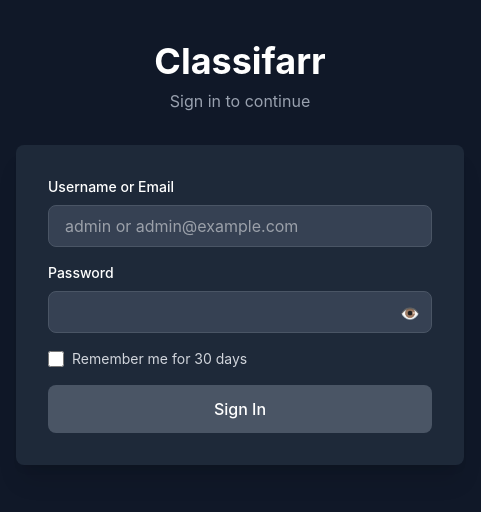
Scenario: Login.vue › login submission › shows error message on failed login
Type "admin" into the field with placeholder "admin or admin@example.com".
click(240, 226); type("admin")  # box [48,205,432,247]
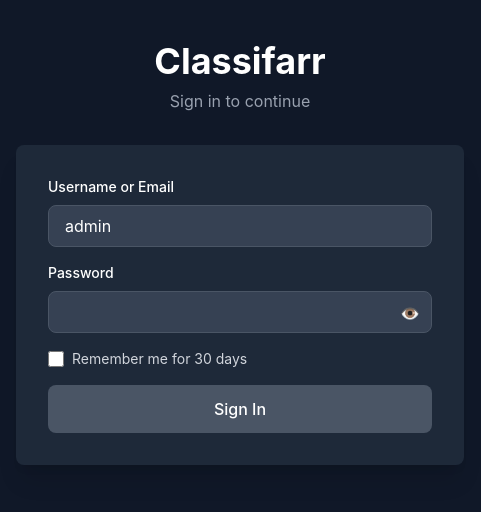
Type "wrongpass" into the password field.
click(240, 312); type("wrongpass")  # box [48,291,432,333]
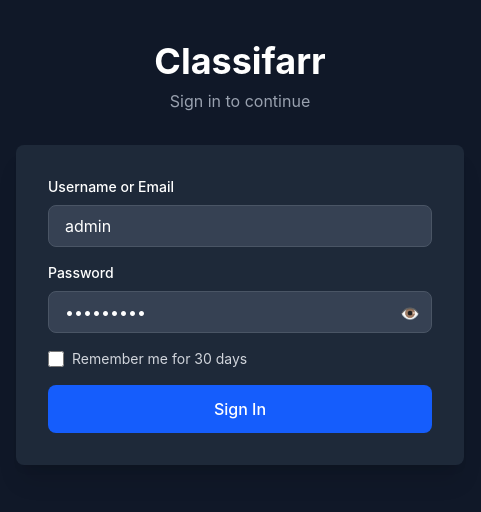
Submit the form, box [48,177,432,433]
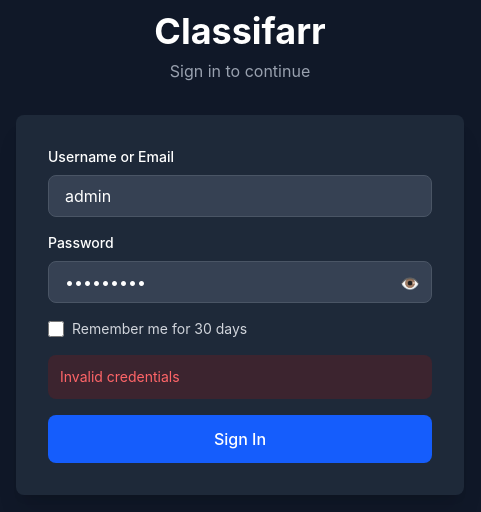
Check: the text "Invalid credentials" is shown, box [48,355,432,399]
